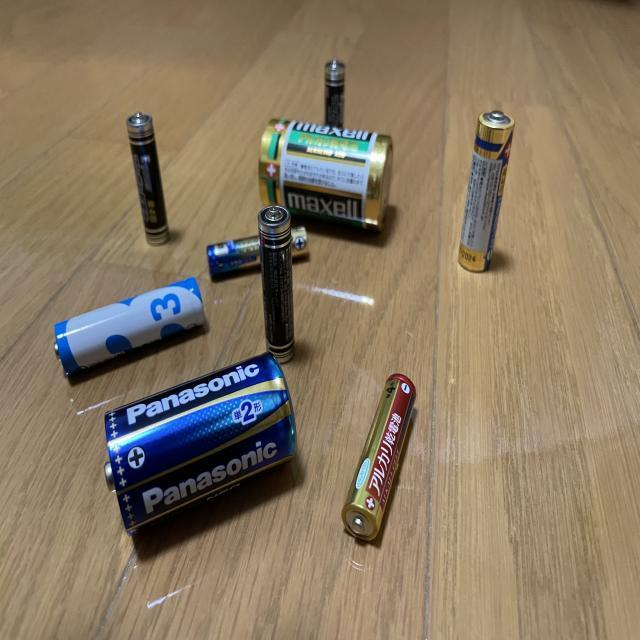battery: (100, 349, 298, 547), (253, 120, 396, 237), (52, 277, 209, 377), (339, 371, 419, 546), (453, 109, 515, 277), (125, 108, 175, 250), (258, 204, 302, 364), (202, 224, 310, 278), (320, 57, 355, 149)
